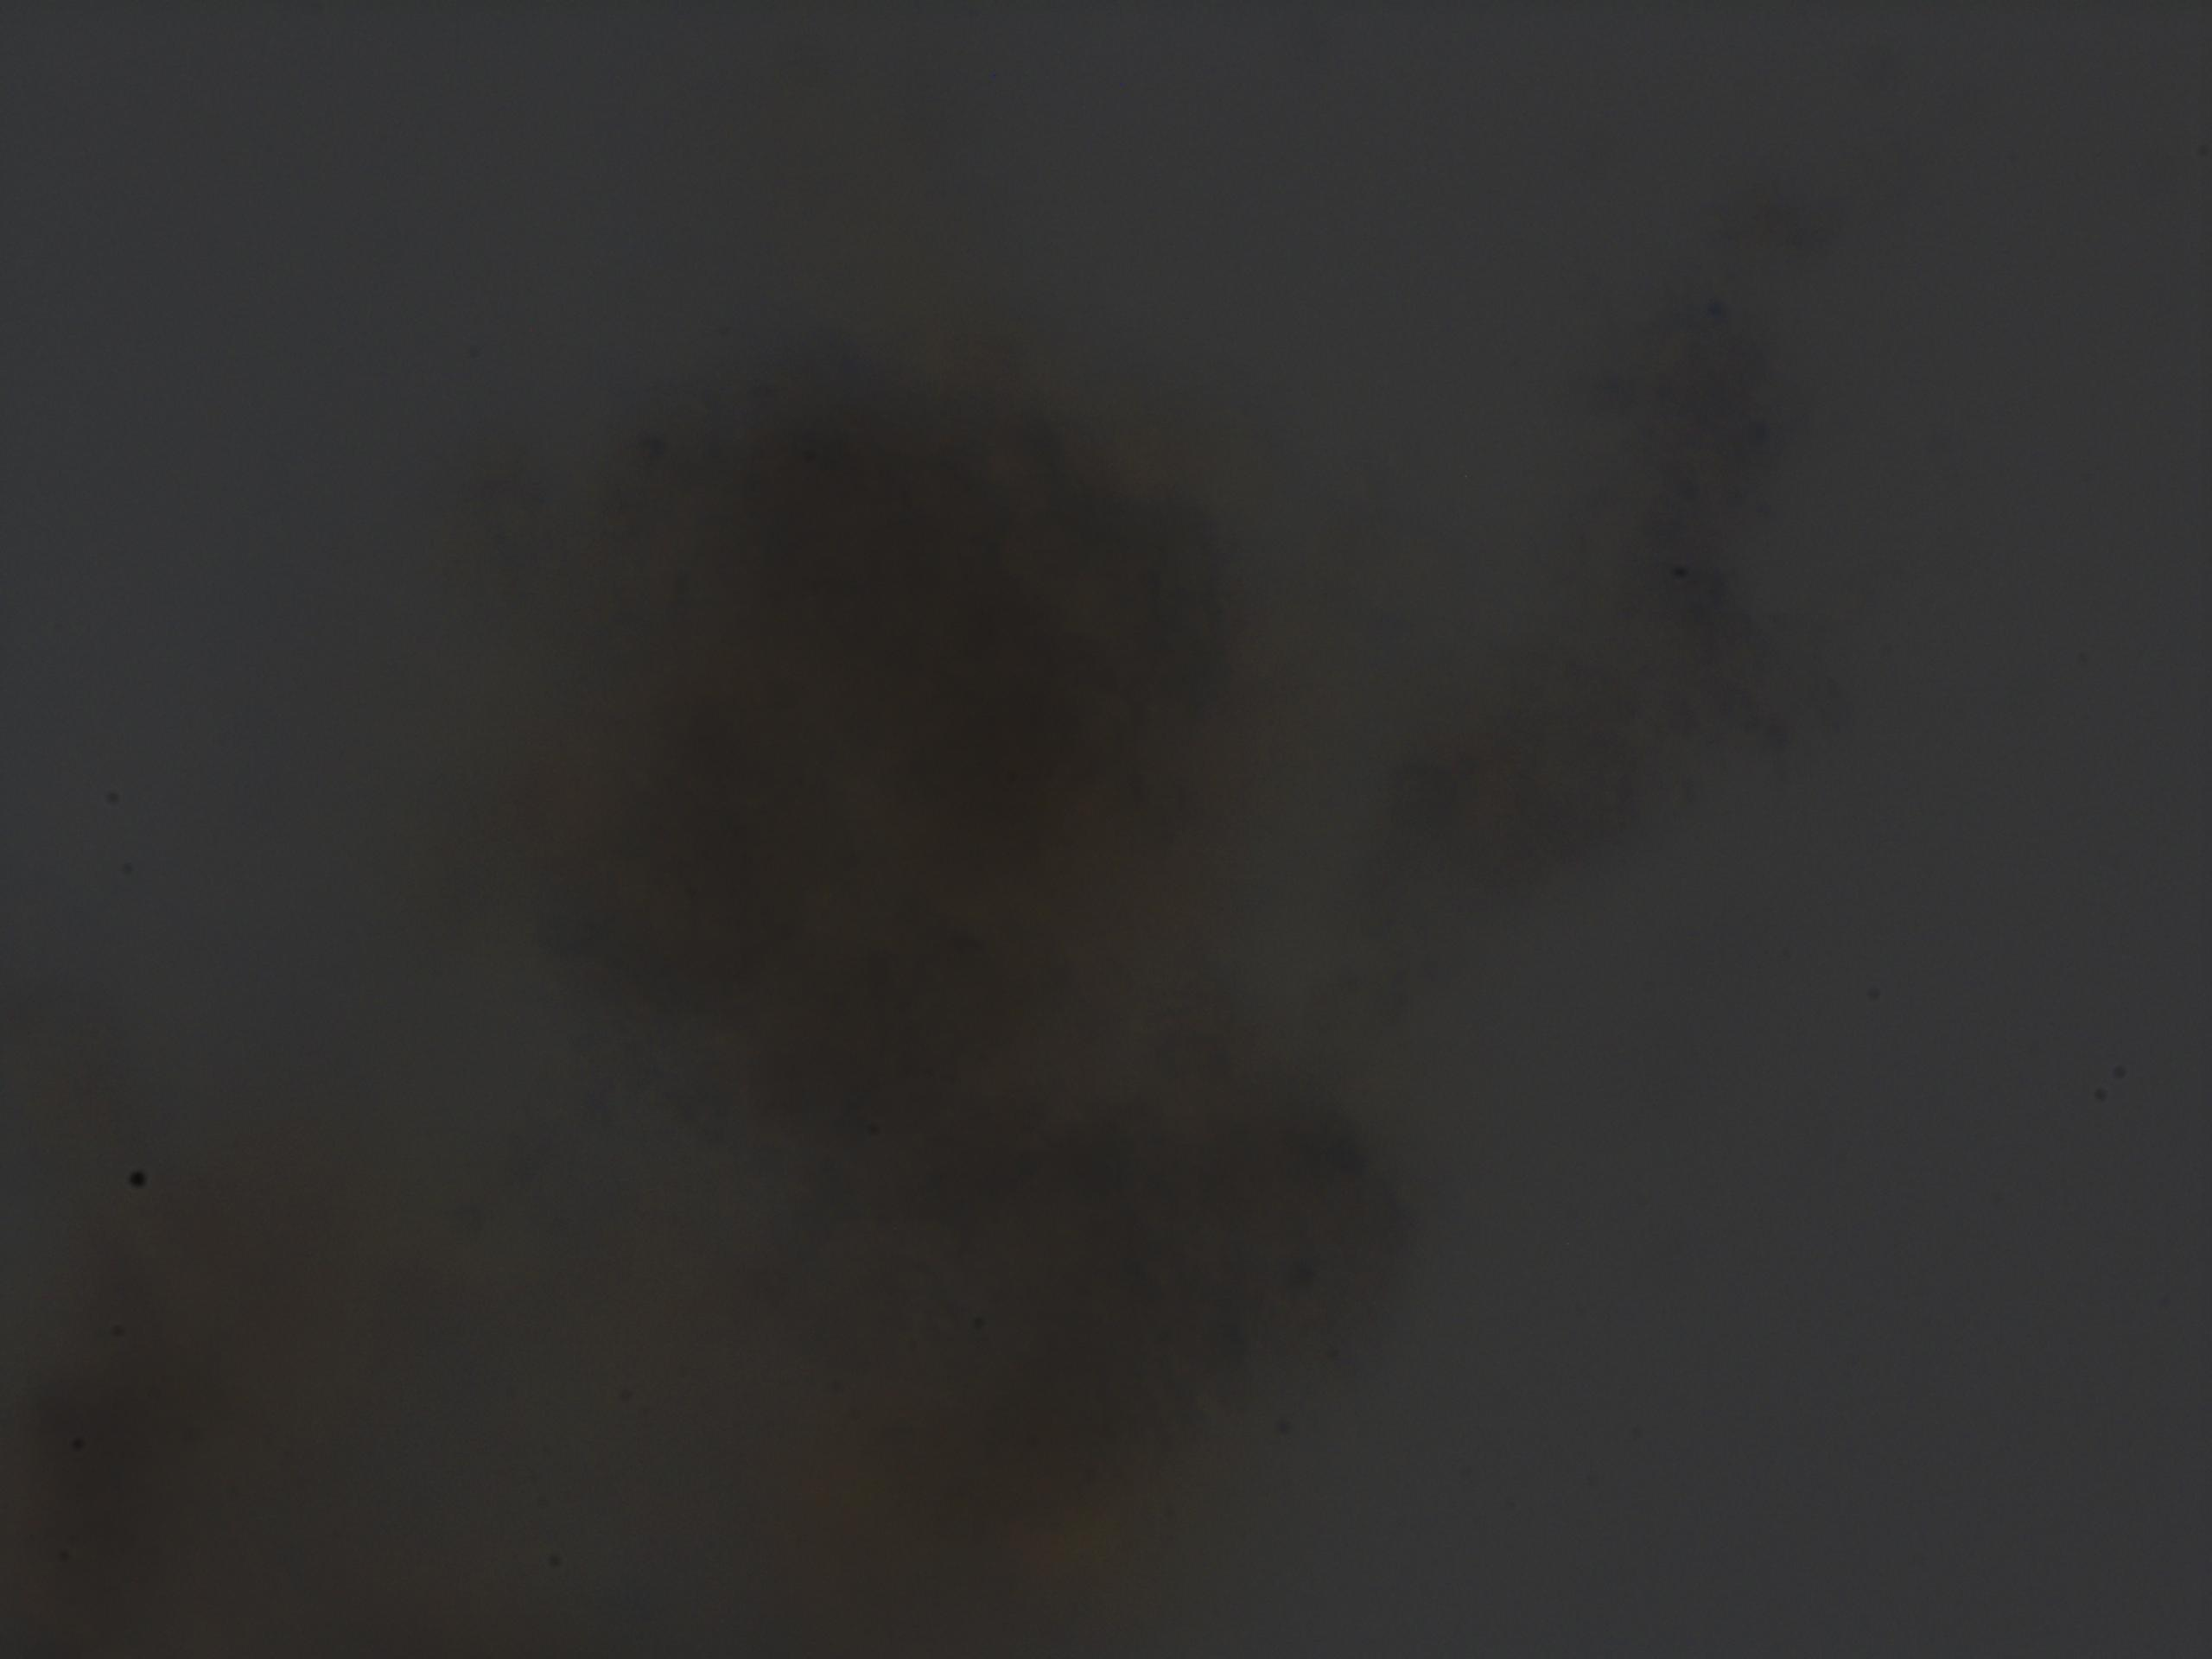spherical_floc: (495, 350, 1432, 1591)
